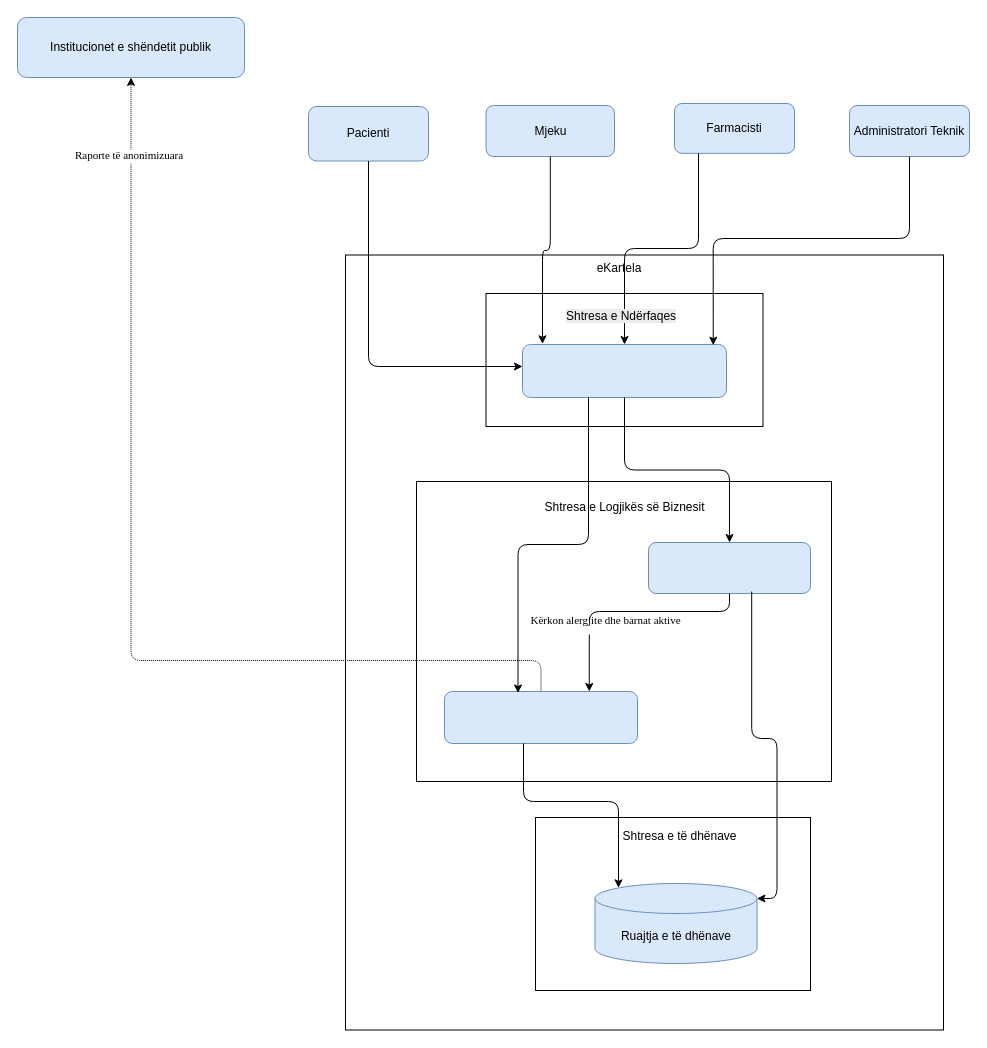
Some shapes in this 987 by 1048 pixel diagram are drawn without their labels. The shapes that lost their labels are listed below. From the top down, each one's box as (x1, y1, x2, y2) in pixels, then its label:
(522, 344, 726, 398): Ndërfaqja e eKartelës
(648, 542, 810, 594): Moduli i Recetave dhe Sigurisë së Barnave
(444, 690, 638, 744): Moduli i Kartelës Klinike
